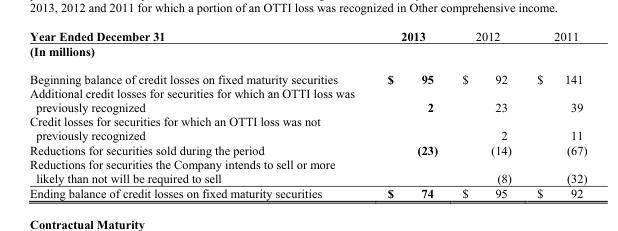table: (28, 28, 586, 199)
table column: (28, 28, 370, 199), (370, 28, 449, 199), (449, 28, 523, 199), (523, 28, 586, 199)
table column header: (28, 28, 586, 42)
table projected row header: (28, 42, 586, 64)
table row: (28, 85, 586, 114), (28, 156, 586, 185), (28, 114, 586, 142), (28, 42, 586, 64), (28, 64, 586, 85), (28, 28, 586, 42), (28, 142, 586, 156), (28, 185, 586, 199)
